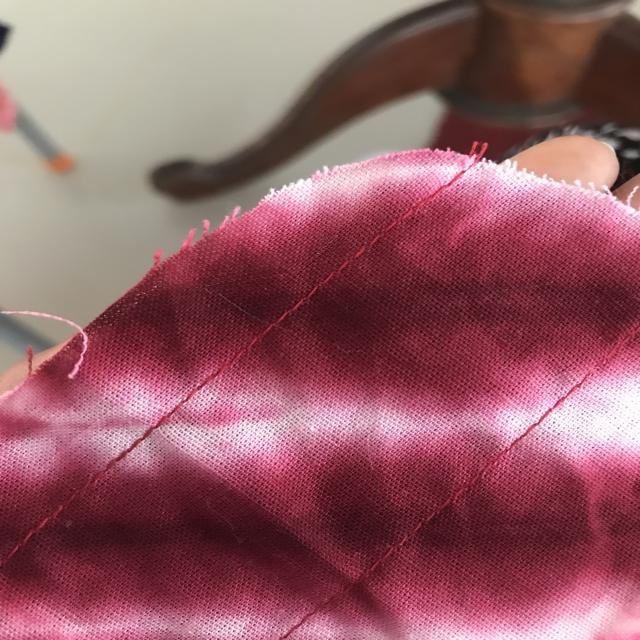good: (286, 243, 365, 351)
